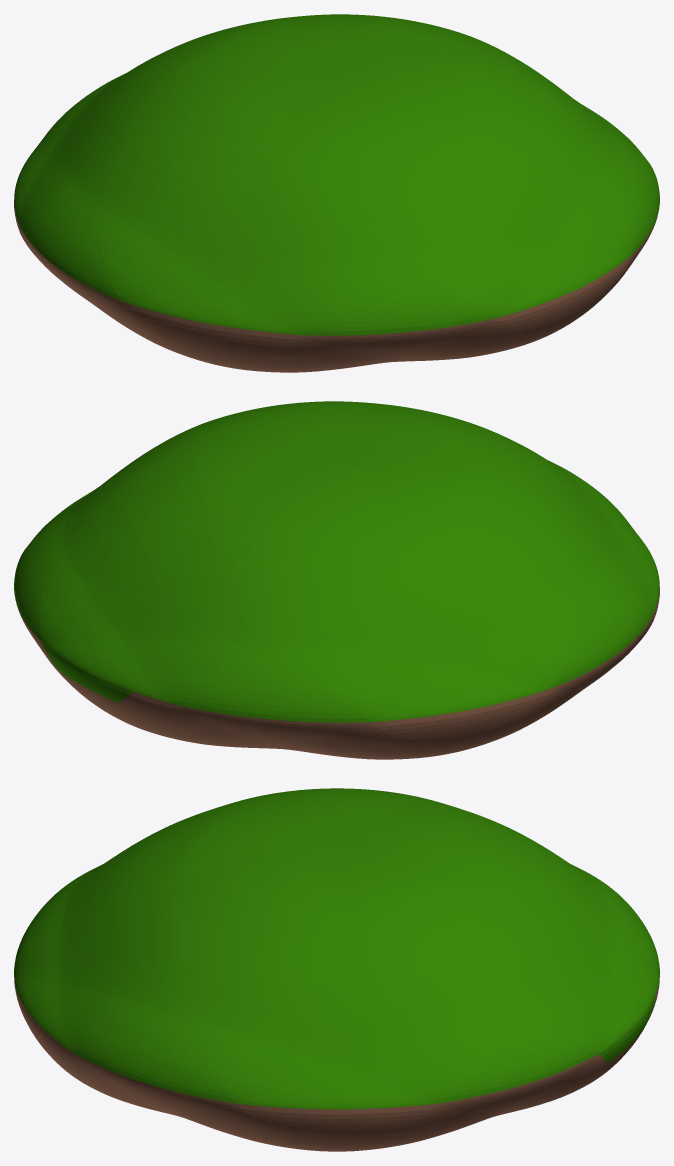
File: Hill.fbx
The picture shows the model from 3 angles, top to bottom: view 1: azimuth 30°, elevation 25°; view 2: azimuth 150°, elevation 25°; view 3: azimuth 270°, elevation 25°; orthographic projection.
Visible parts, largest first — view 1: Icosphere; view 2: Icosphere; view 3: Icosphere.
Boxes of the visible parts, x1=… form: Icosphere: x1=14, y1=14, x2=659, y2=372; Icosphere: x1=14, y1=401, x2=659, y2=759; Icosphere: x1=14, y1=788, x2=659, y2=1151.
Size of the model in its own units: 6235 by 2763 by 6234.
